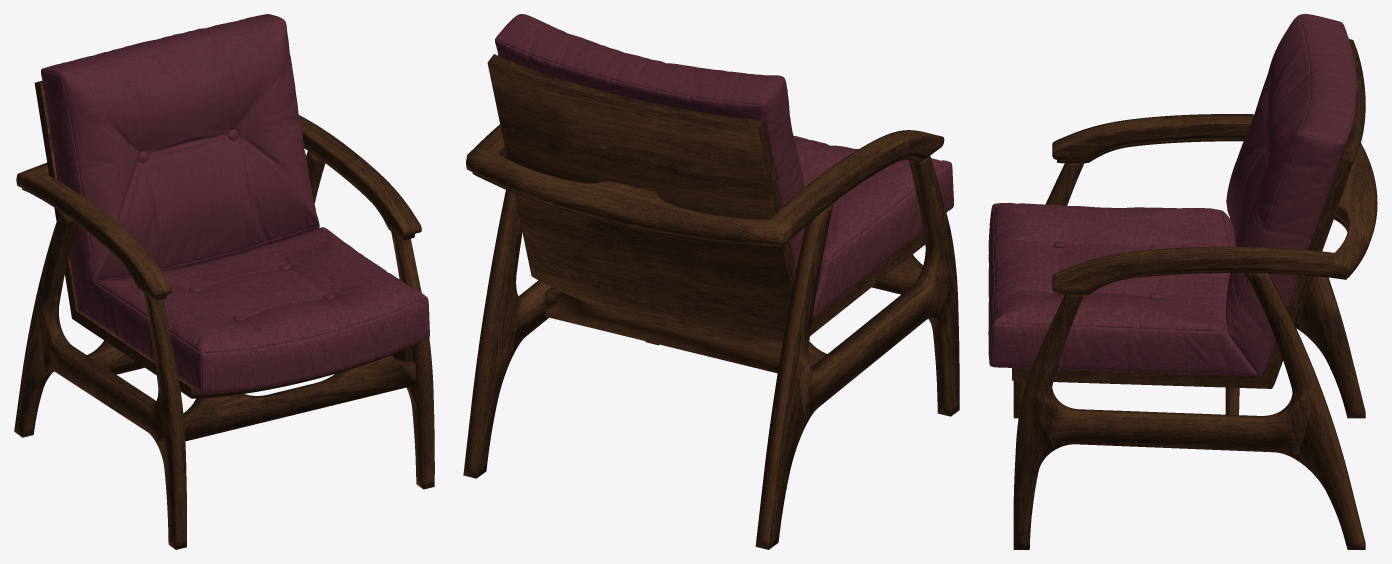
The model's file is Armchair_3.glb.
3 renders of one model, left to right at view 1: azimuth 30°, elevation 25°; view 2: azimuth 150°, elevation 25°; view 3: azimuth 270°, elevation 25°, orthographic. The views are drawn at different scales.
Visible parts, largest first — view 1: Chair back, Seat_1, Legs, Armrest, Frame, Seat_2; view 2: Seat_2, Legs, Armrest, Chair back, Seat_1, Frame; view 3: Seat_1, Legs, Chair back, Armrest, Seat_2.
Boxes of the visible parts, bbox=[...] form: Chair back: bbox=[41, 14, 319, 311]; Seat_1: bbox=[80, 227, 429, 393]; Legs: bbox=[14, 151, 434, 549]; Armrest: bbox=[16, 115, 421, 300]; Frame: bbox=[87, 340, 416, 441]; Seat_2: bbox=[34, 80, 420, 398]; Seat_2: bbox=[487, 54, 925, 342]; Legs: bbox=[463, 156, 959, 549]; Armrest: bbox=[466, 124, 944, 248]; Chair back: bbox=[495, 14, 823, 295]; Seat_1: bbox=[793, 135, 953, 319]; Frame: bbox=[545, 254, 923, 373]; Seat_1: bbox=[988, 202, 1257, 375]; Legs: bbox=[1013, 163, 1365, 549]; Chair back: bbox=[1226, 14, 1356, 376]; Armrest: bbox=[1052, 114, 1377, 294]; Seat_2: bbox=[1012, 39, 1365, 388].
Bounding box in the file's own units: 0.6754 × 0.9025 × 0.779.
Materials: 3 (3 with a texture image).
